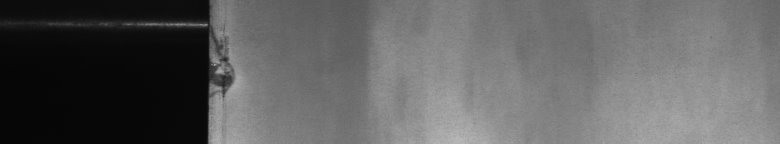hb: (220, 24, 242, 108)
